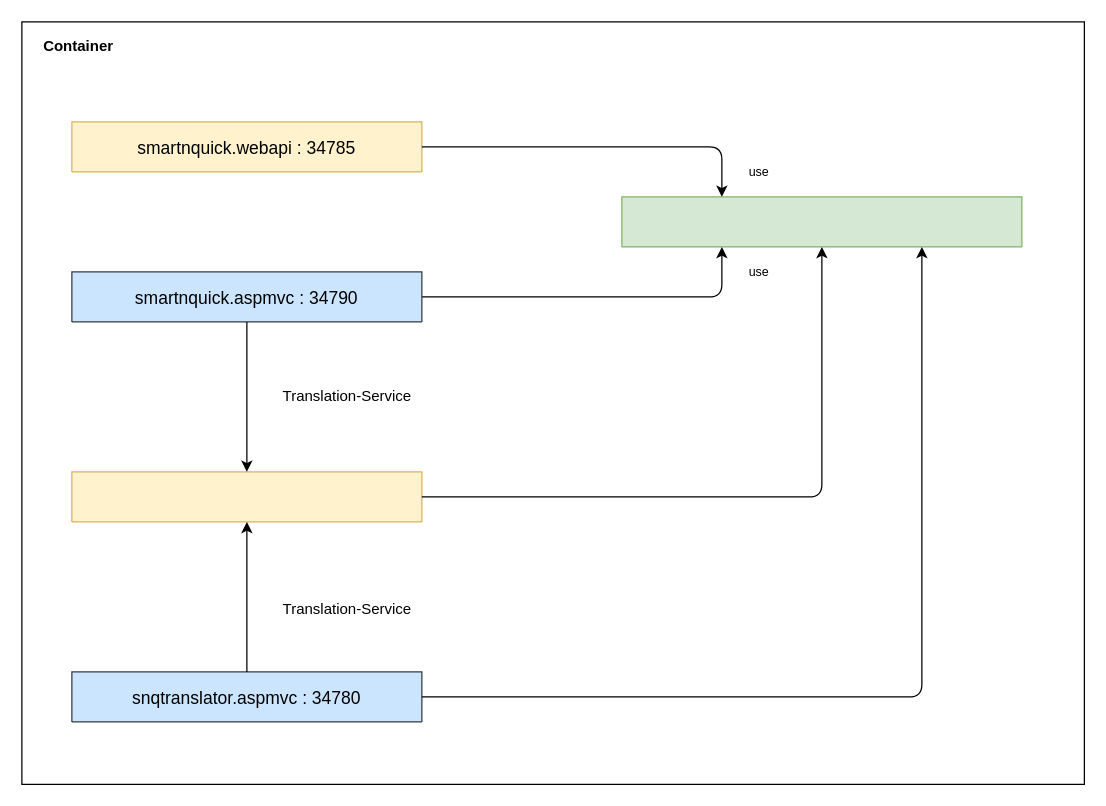
Image size: 1106x806. Some labels were removed from this diagram. Here are the shapes that lost their labels. From the top down, the centre of each, then its label:
At point 821,221: "mssql,14330".
At point 246,496: "snqtranslator.webapi : 34775".
